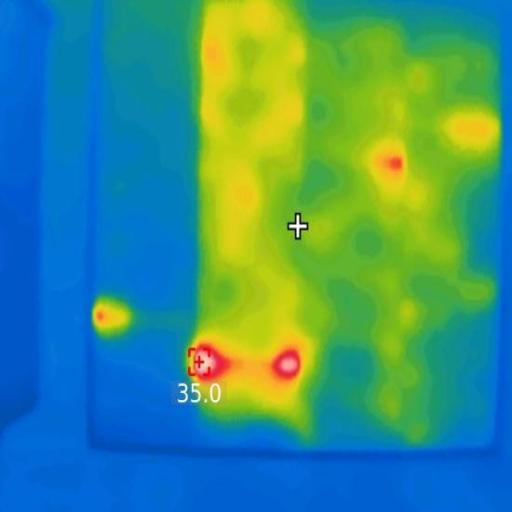hotspot: (192, 341, 232, 382), (272, 348, 303, 381), (387, 152, 404, 175)
